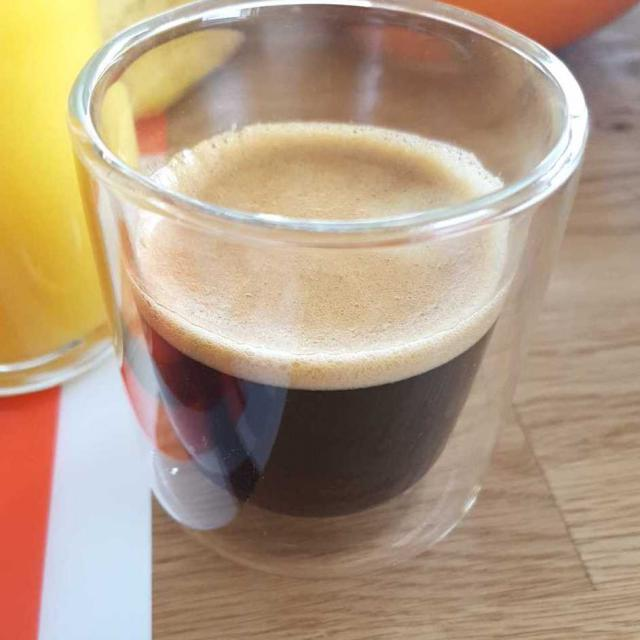espresso-with-caffeine: (105, 144, 517, 510)
